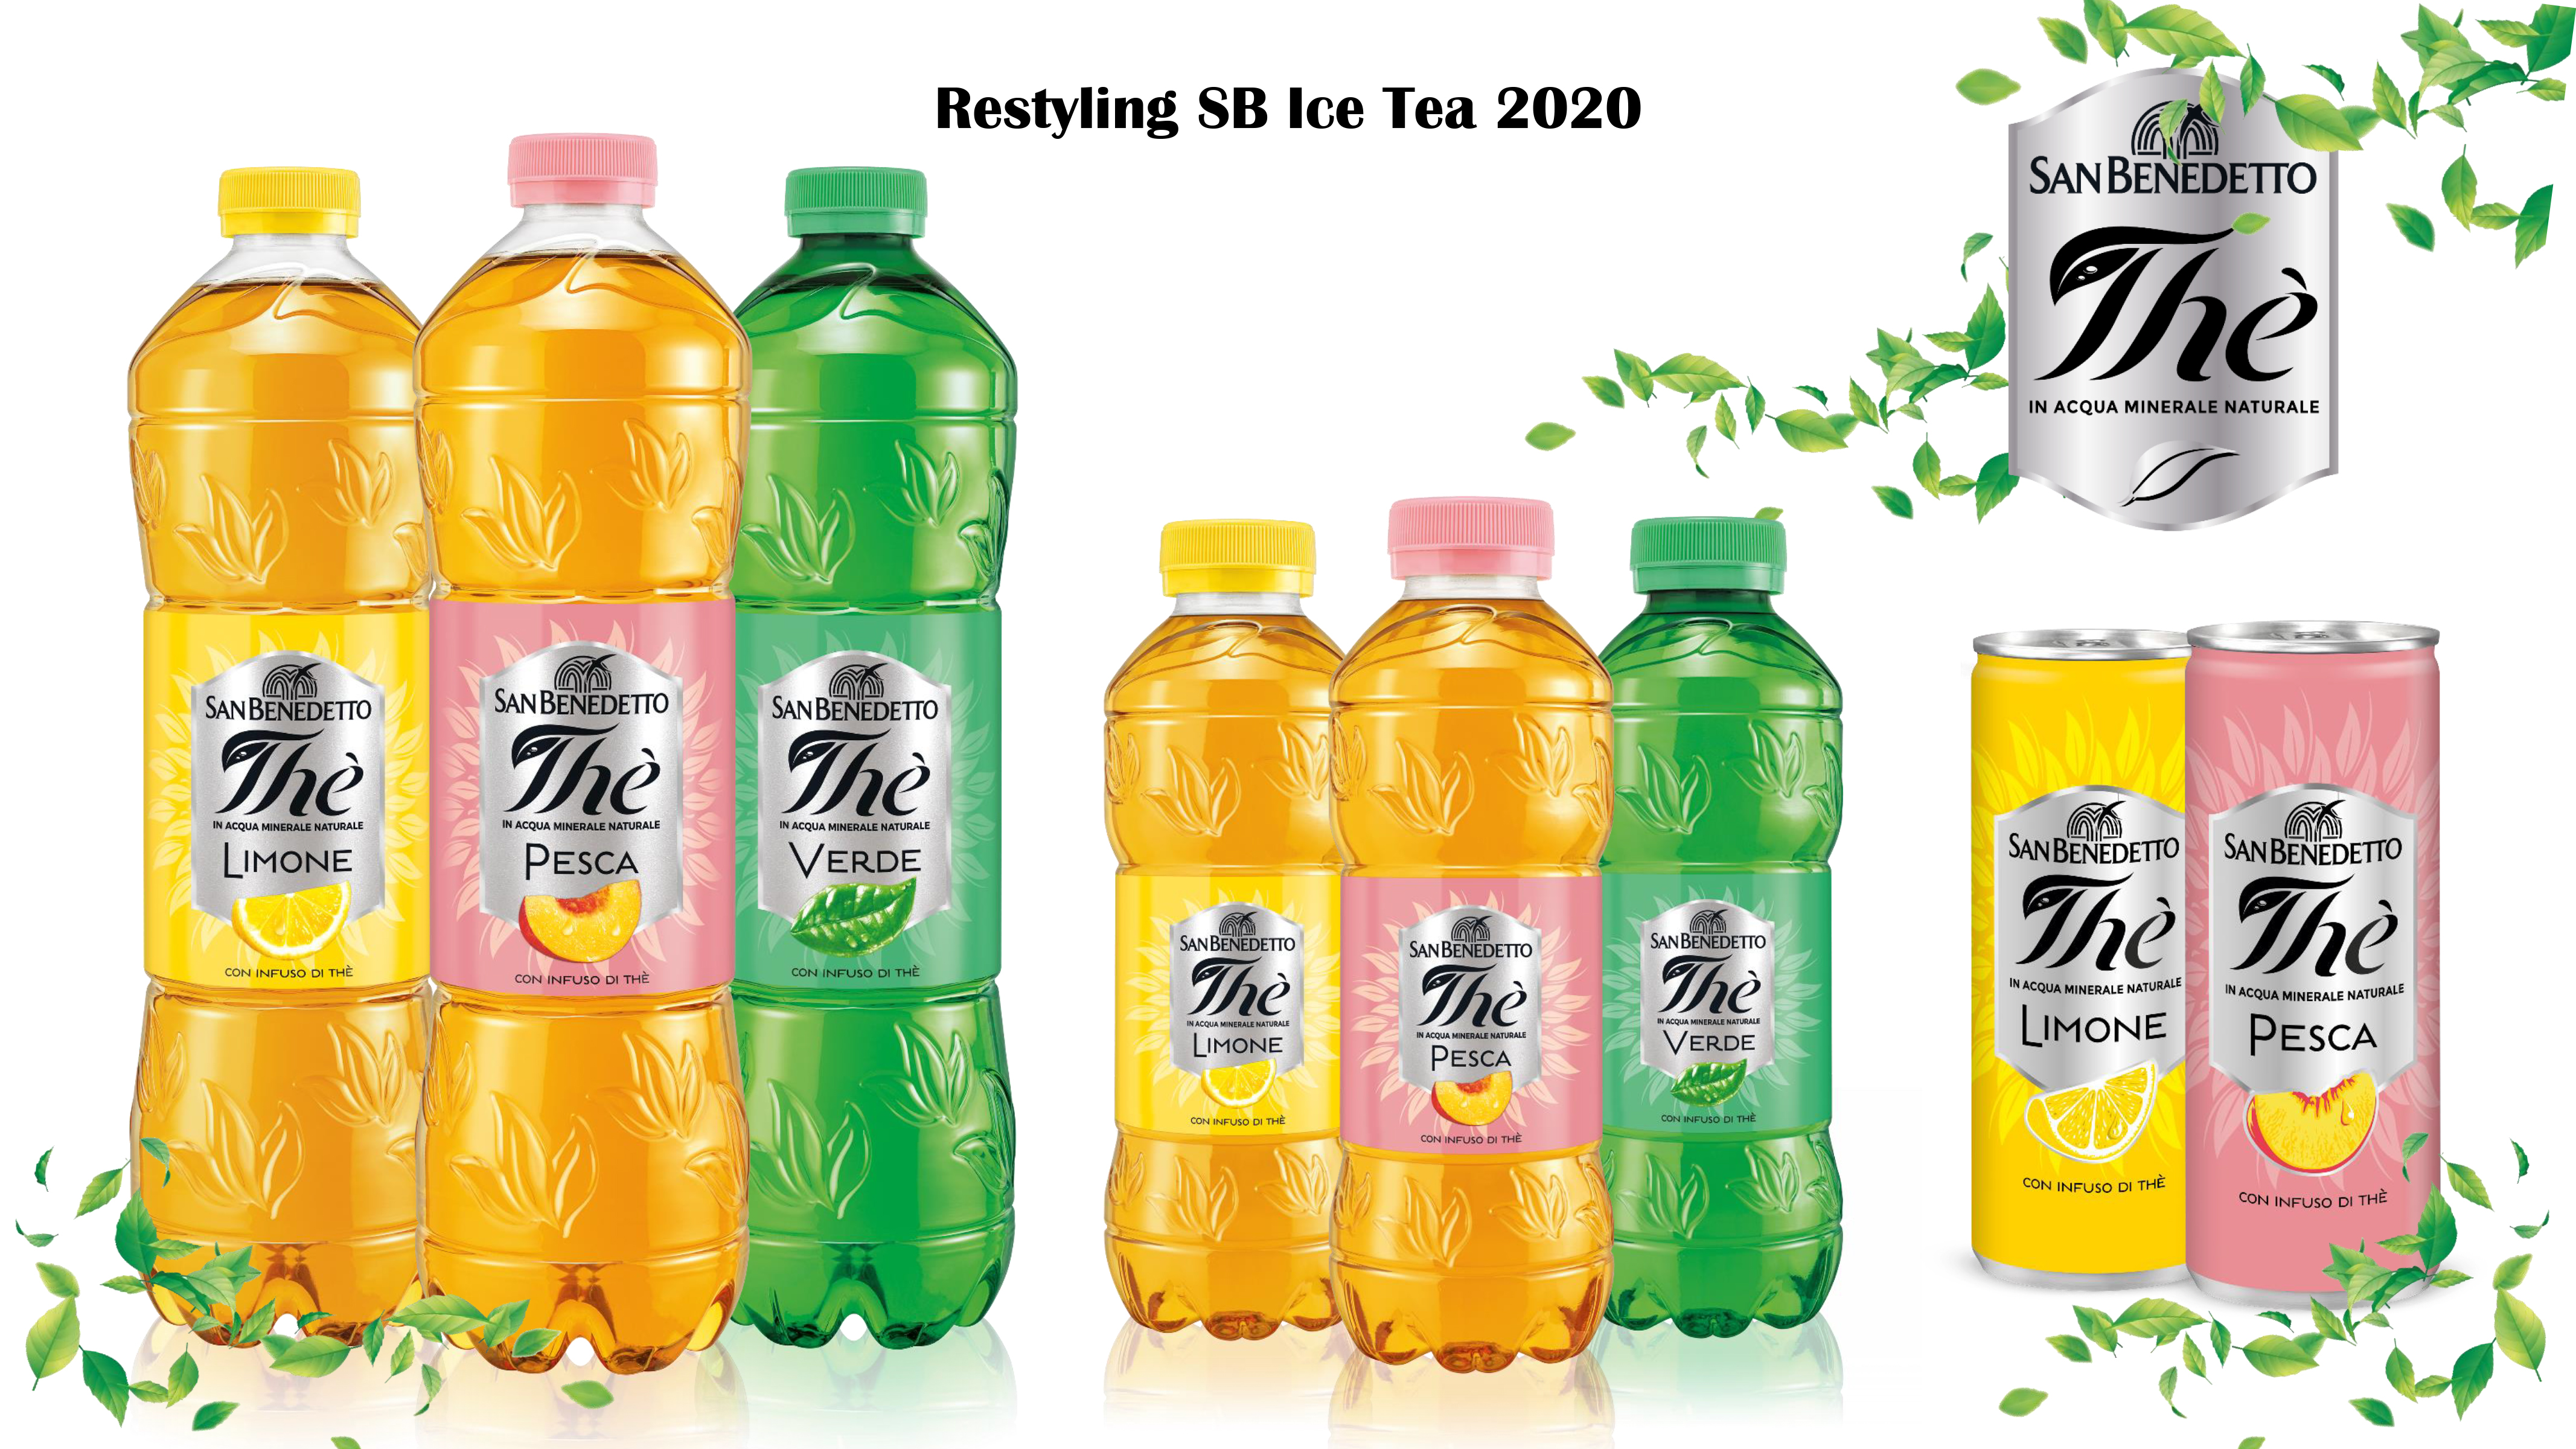MetalCan: (2189, 610, 2442, 1304), (1955, 598, 2192, 1286)
PlasticBottle: (405, 103, 754, 1382), (708, 142, 1028, 1345), (117, 140, 421, 1355), (1332, 488, 1599, 1369), (1578, 513, 1861, 1343), (1086, 502, 1339, 1348)
